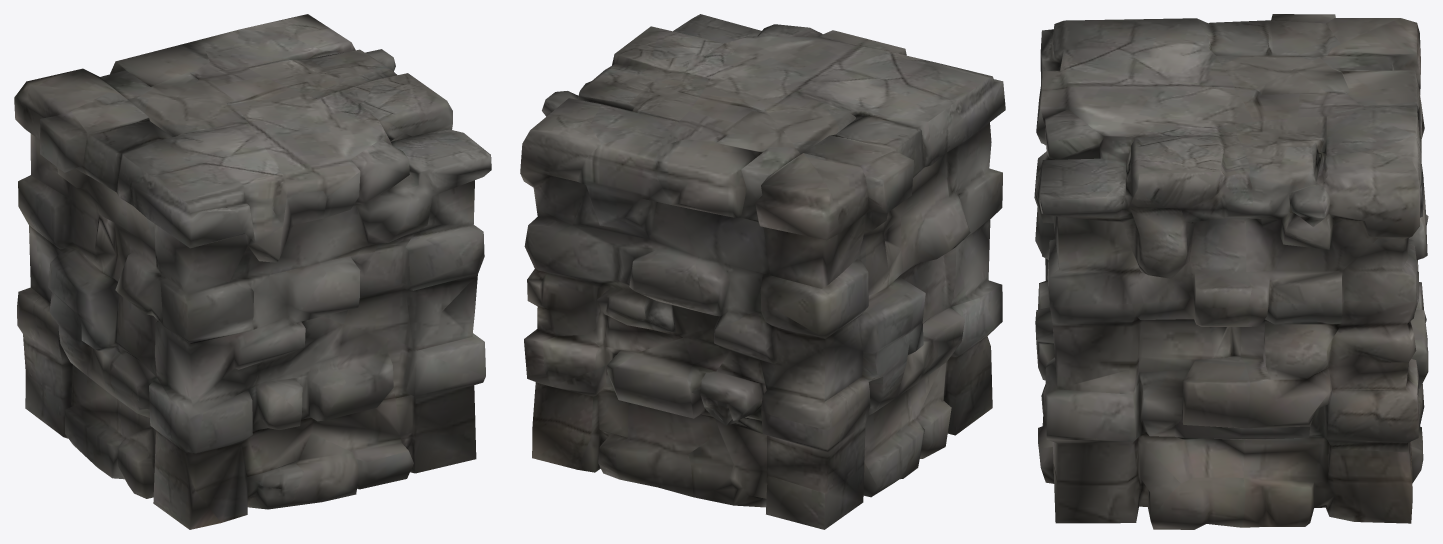
File: stone_wall.glb
3 renders of one model, left to right at view 1: azimuth 30°, elevation 25°; view 2: azimuth 150°, elevation 25°; view 3: azimuth 270°, elevation 25°, orthographic. The views are drawn at different scales.
Parts seen in each view (by area): view 1: tripo_node_835c2719-44de-4687-a5b2-73b1be21aa75; view 2: tripo_node_835c2719-44de-4687-a5b2-73b1be21aa75; view 3: tripo_node_835c2719-44de-4687-a5b2-73b1be21aa75.
Part boxes in pixels (left/top/right/bottom): tripo_node_835c2719-44de-4687-a5b2-73b1be21aa75: left=14, top=14, right=491, bottom=529; tripo_node_835c2719-44de-4687-a5b2-73b1be21aa75: left=520, top=14, right=1005, bottom=529; tripo_node_835c2719-44de-4687-a5b2-73b1be21aa75: left=1034, top=14, right=1428, bottom=529.
Bounding box in the file's own units: 0.8655 × 0.9452 × 0.8006.
Materials: 1 (1 with a texture image).
